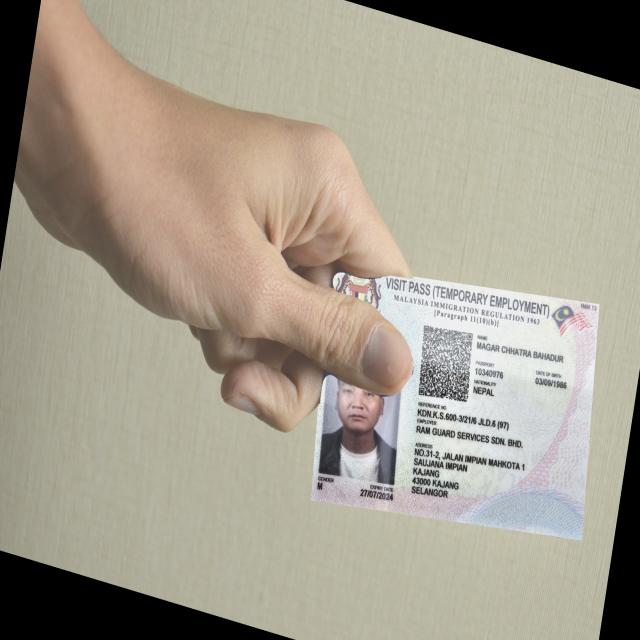ikad-temp: (310, 271, 600, 541)
